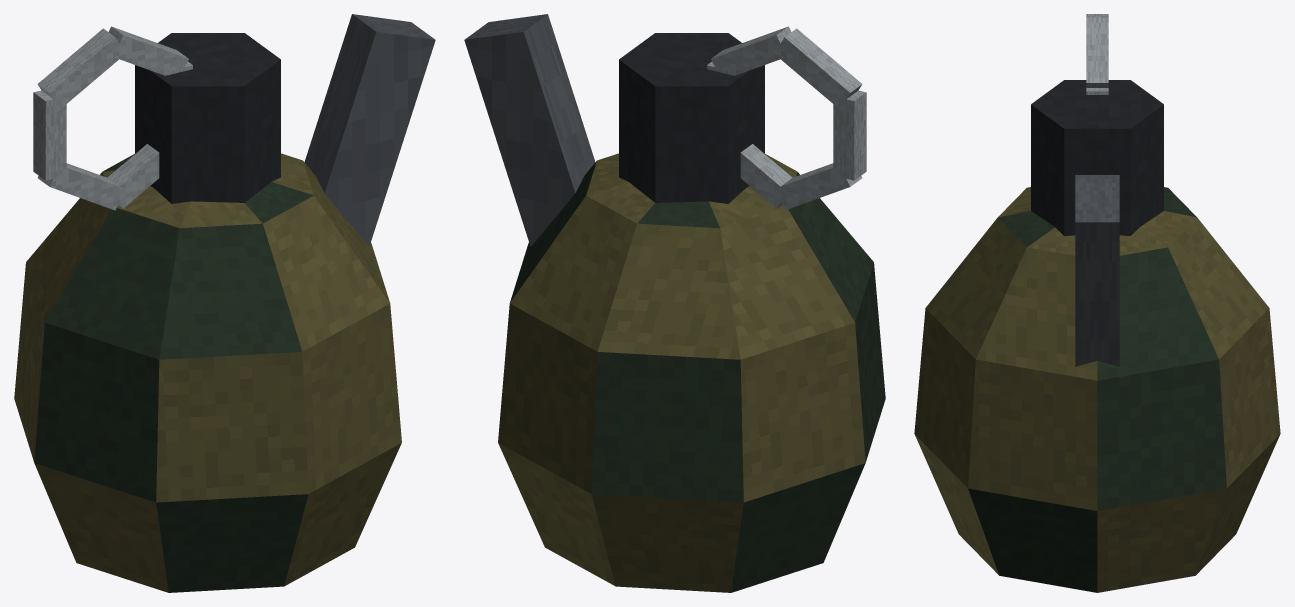
The model's file is weapon_grenade.glb.
3 views of the same model, side by side, from view 1: azimuth 30°, elevation 25°; view 2: azimuth 150°, elevation 25°; view 3: azimuth 270°, elevation 25° (orthographic). The views are drawn at different scales.
Visible parts, largest first — view 1: weapon_grenade; view 2: weapon_grenade; view 3: weapon_grenade.
Part boxes in pixels (left/top/right/bottom): weapon_grenade: left=14, top=14, right=435, bottom=592; weapon_grenade: left=464, top=14, right=885, bottom=592; weapon_grenade: left=914, top=14, right=1280, bottom=592.
Size of the model in its own units: 0.0739 by 0.0997 by 0.066.
1 material, 1 textured.
